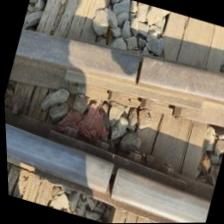person: (85, 155, 136, 206), (113, 48, 164, 93)
